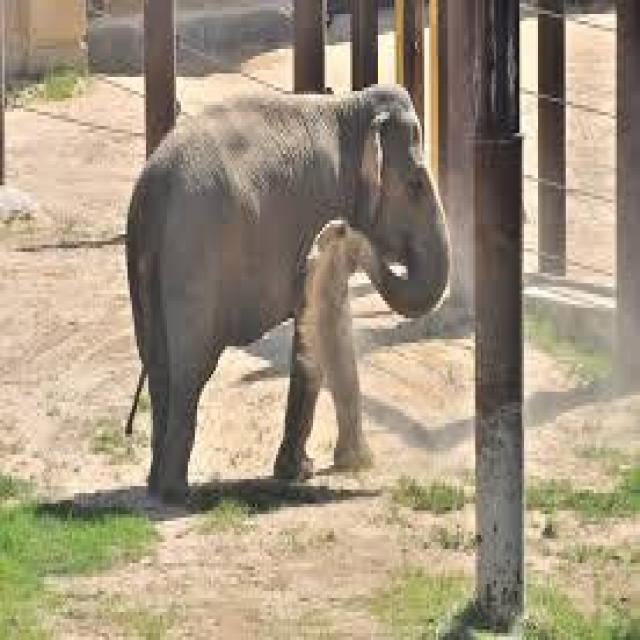Elephant: (123, 74, 452, 493)
